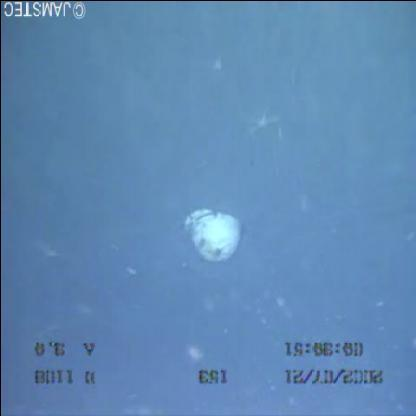Rác: (168, 199, 256, 269)
